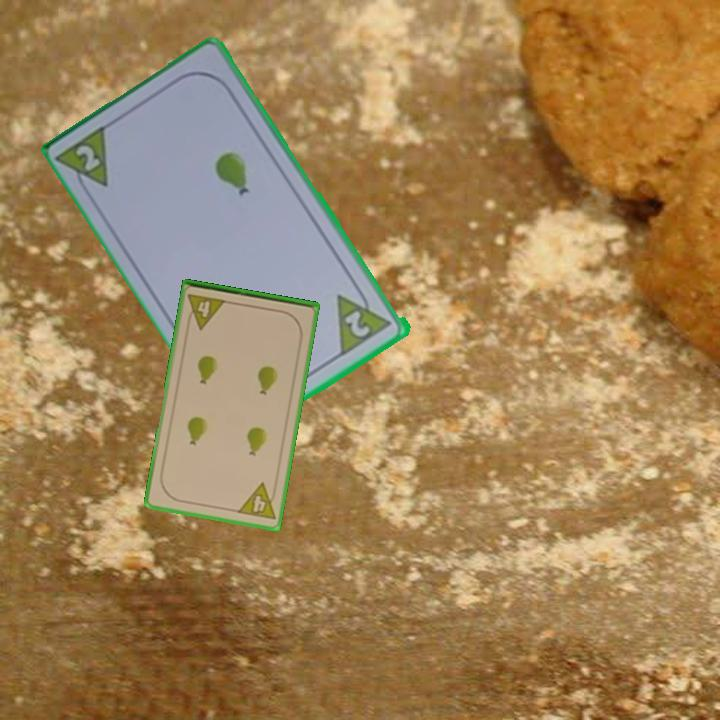2p: (333, 280, 396, 358), (72, 141, 104, 175)
4p: (234, 479, 280, 522), (183, 290, 229, 332)
